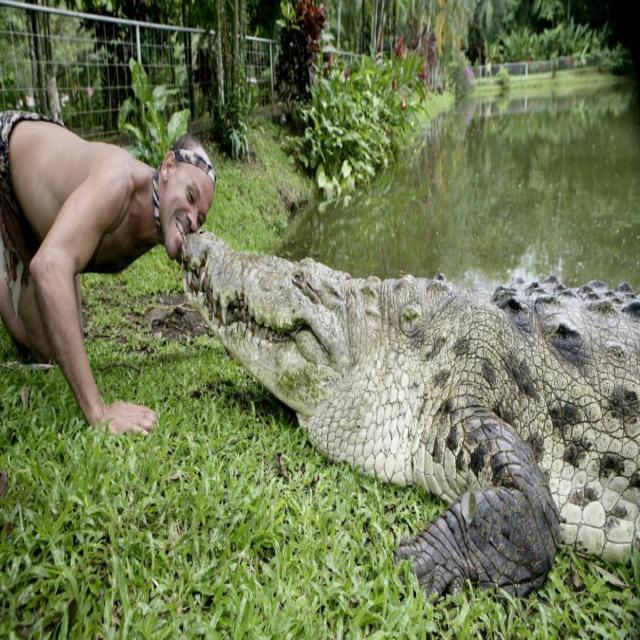crocodile: (170, 209, 639, 639)
